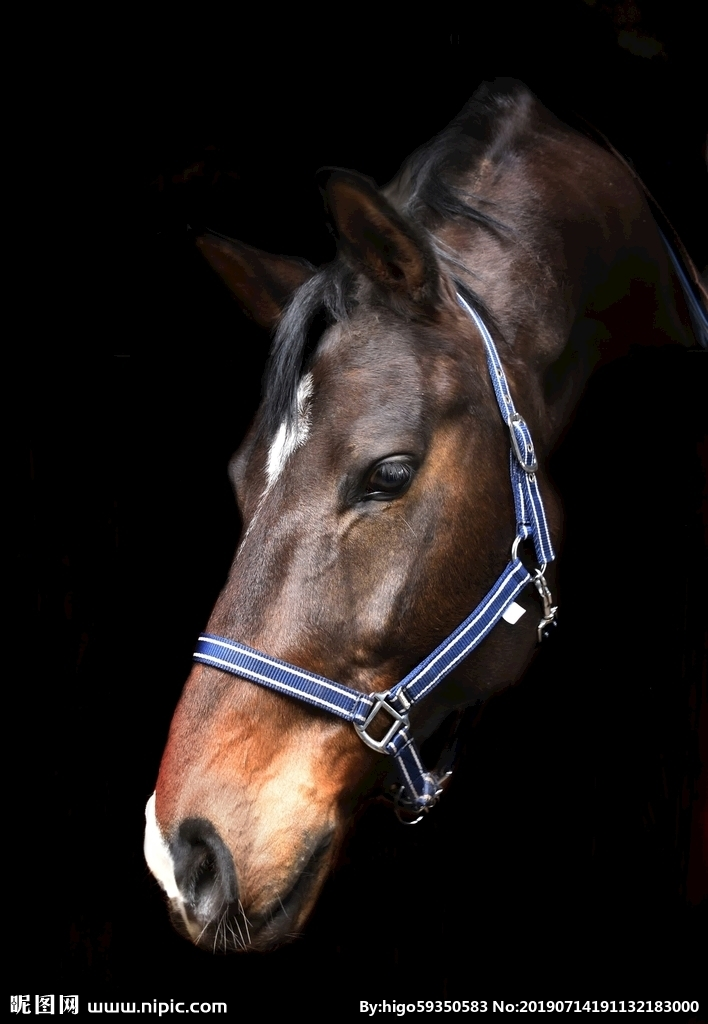horse: (142, 71, 703, 979)
